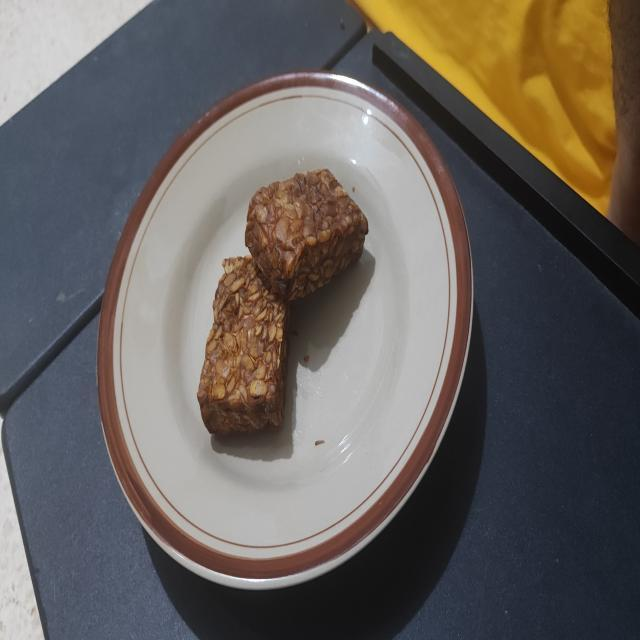tempe_goreng: (245, 168, 368, 300), (197, 256, 287, 433)
